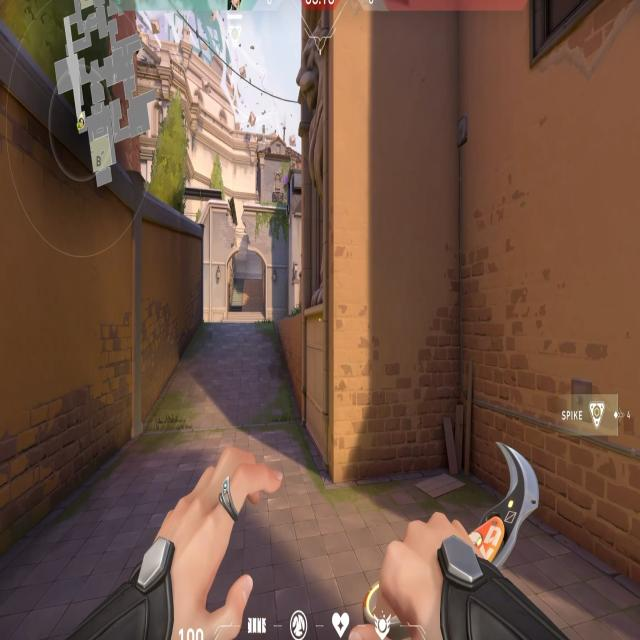Lion_Corner: (294, 0, 334, 338)
